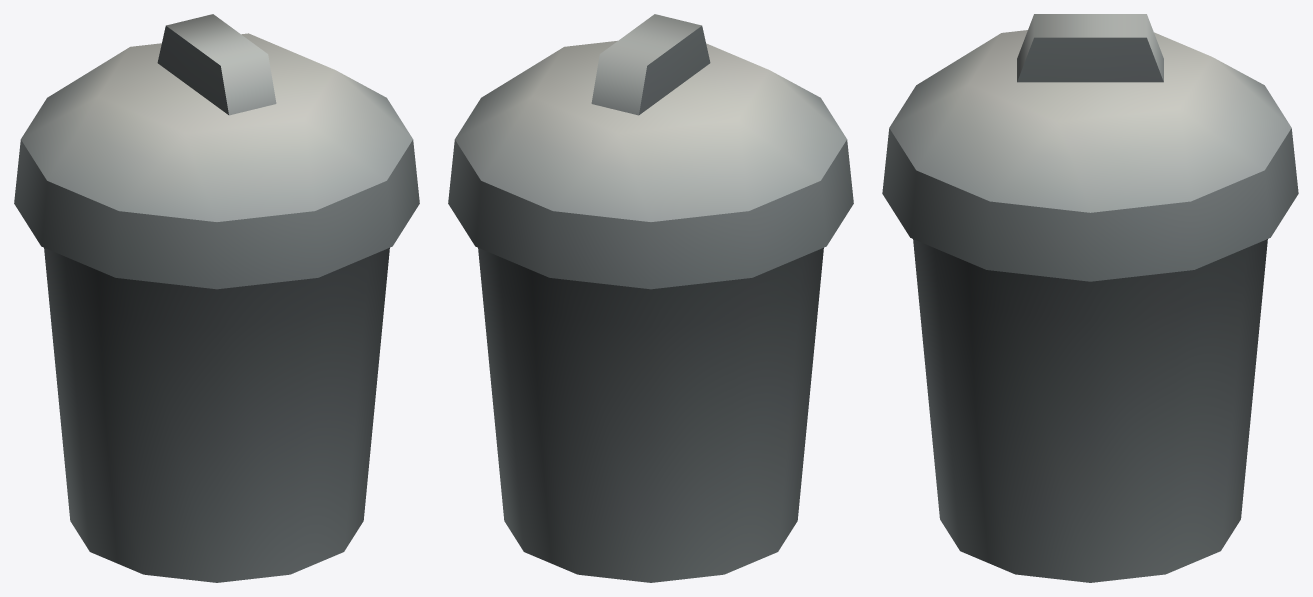
The model's file is tc_trash_can_1a.glb.
The picture shows the model from 3 angles, left to right: view 1: azimuth 30°, elevation 25°; view 2: azimuth 150°, elevation 25°; view 3: azimuth 270°, elevation 25°; orthographic projection. The views are drawn at different scales.
Parts seen in each view (by area): view 1: Trash_Can_1A; view 2: Trash_Can_1A; view 3: Trash_Can_1A.
Boxes of the visible parts, x1,y1,x2,y2 form: Trash_Can_1A: [14, 14, 419, 582]; Trash_Can_1A: [448, 14, 853, 582]; Trash_Can_1A: [882, 14, 1298, 582].
Size of the model in its own units: 1.06 by 1.39 by 1.06.
Materials: 1 (1 with a texture image).
